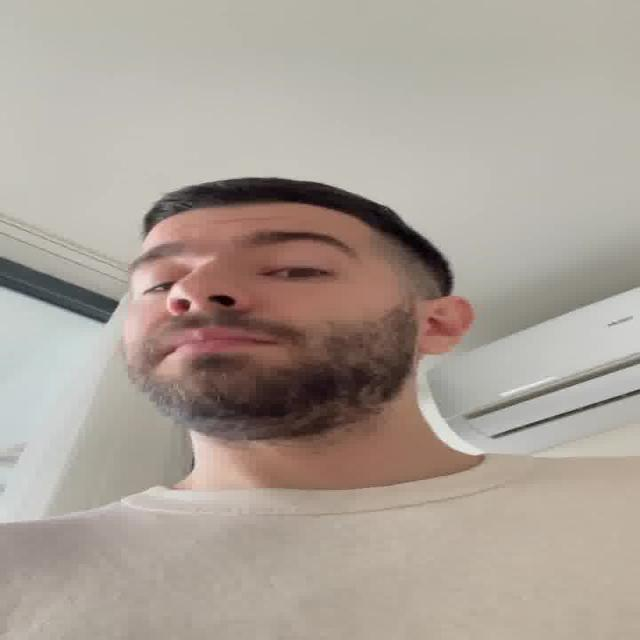earlobe: (412, 337, 447, 355)
eye: (259, 262, 335, 284), (135, 277, 182, 296)
nose: (168, 304, 250, 326)
wholeear: (412, 297, 474, 355)
